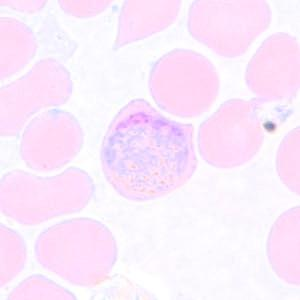Infected: (99, 98, 199, 200)
Uninfected: (0, 55, 74, 139), (0, 164, 94, 225), (36, 218, 117, 285), (185, 0, 271, 59), (149, 49, 220, 115), (198, 98, 262, 168), (21, 110, 84, 170), (245, 31, 300, 98), (113, 0, 181, 50)
